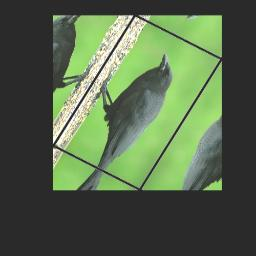Crow: (59, 35, 189, 179)
